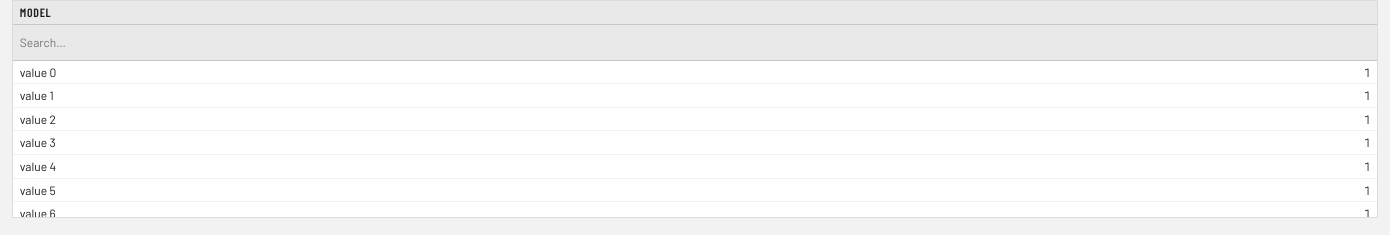
Test: ListBox › filters long lists with a search box
In the search field named "Search Model": (695, 43) x1=13 y1=25 x2=1377 y2=61, type "value 1"
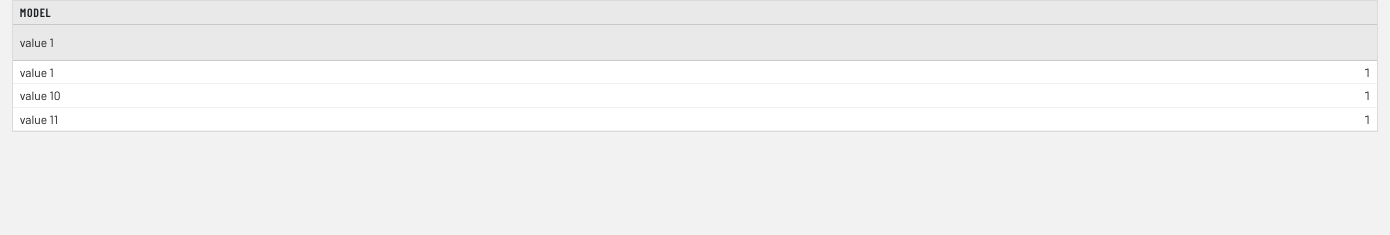
Expected: the options read "value 11", "value 101", "value 111", in this order, x1=13 y1=61 x2=1377 y2=84; x1=13 y1=84 x2=1377 y2=108; x1=13 y1=108 x2=1377 y2=131
